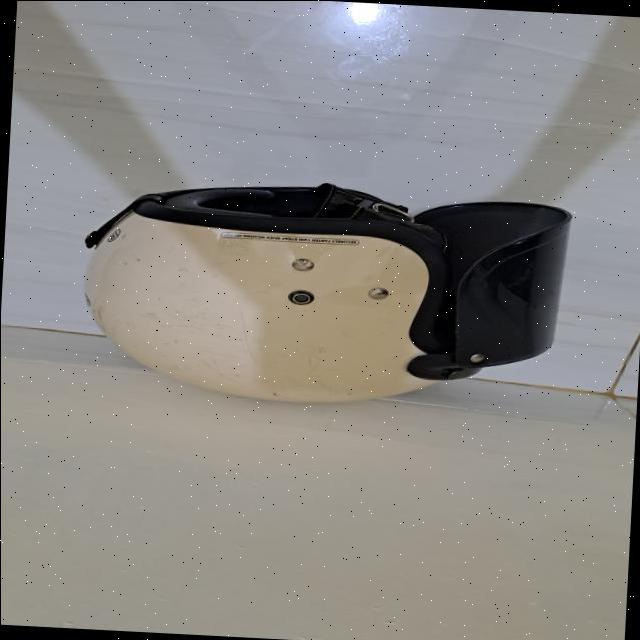Helm: (68, 161, 596, 425)
